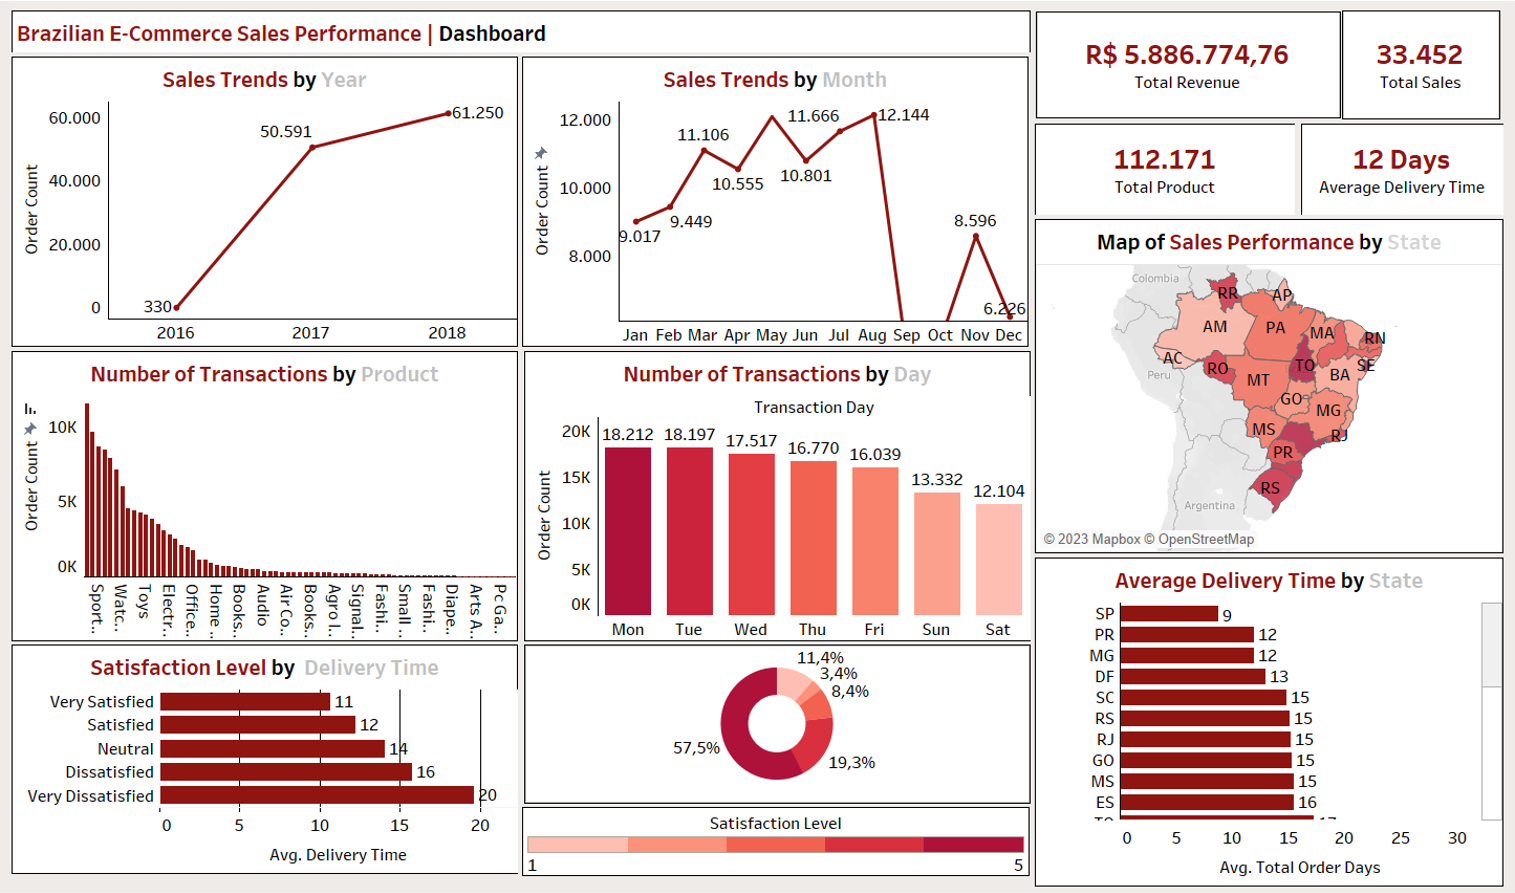

The dashboard page shown, as its layout file describes it:
{"tool":"tableau","page":{"name":"Sales Performance Dashboard","canvas":[1000,1000],"units":"permille","ordinal":0},"visuals":[{"type":"title","box":[4.8,9.4,990.3,57.6]},{"type":"worksheet","title":"Dashboard Tittle","mark":"Automatic","box":[7.5,10.6,672.5,47]},{"type":"worksheet","title":"Total Revenue","mark":"Automatic","box":[683,10.6,202.8,122.2]},{"type":"worksheet","title":"Total Sales","mark":"Automatic","box":[885.8,10.6,104.5,122.2]},{"type":"worksheet","title":"Sales Trends (Y)","mark":"Automatic","rows":["order_id"],"cols":["order_purchase_timestamp"],"box":[7.6,62.3,334.3,325.5]},{"type":"worksheet","title":"Sales Trends (M)","mark":"Automatic","rows":["order_id"],"cols":["order_purchase_timestamp"],"box":[344.6,62.3,334.3,325.5]},{"type":"worksheet","title":"Total Product","mark":"Automatic","box":[683,137.5,171.6,102.2]},{"type":"worksheet","title":"Avg Delivery Time","mark":"Automatic","box":[858.8,137.5,133.6,102.2]},{"type":"worksheet","title":"Sales Performance Map","mark":"Multipolygon","box":[683,244.4,309.3,374.9]},{"type":"worksheet","title":"Product Sales","mark":"Automatic","rows":["order_id"],"cols":["product_category_name_english"],"box":[7.6,392.5,334.3,325.5]},{"type":"worksheet","title":"Transaction Day","mark":"Automatic","rows":["order_id"],"cols":["transaction_day"],"box":[346,392.5,334.3,325.5]},{"type":"worksheet","title":"Avg Delivery Time by State","mark":"Automatic","rows":["customer_state"],"cols":["total_order_days"],"box":[683,624,309.3,369]},{"type":"worksheet","title":"Level of Satisfaction With The Delivery Time","mark":"Bar","rows":["review_score"],"cols":["total_order_days"],"box":[7.6,721.5,334.3,257.3]},{"type":"worksheet","title":"Satisfaction Level","mark":"Pie","cols":["Calculation_2168764725151133703","Calculation_2168764725151133703"],"box":[346,721.5,334.3,178.6]},{"type":"legend","title":"Satisfaction Level","param":"[federated.1buuvip01ymuc513rpub318y96ww].[none:review_score:qk]","box":[344.6,903.6,334.9,77.6]}]}

Visuals, with their boxes on the dashboard's canvas, which has no fixed pixel size, in thousandths of its width and height (x1, y1, x2, y2). These are canvas units, not pixel positions in the 1515x893 screenshot, which may show the page scaled, cropped or inside an application window:
title: detection(5, 9, 995, 67)
"Dashboard Tittle" worksheet: detection(8, 11, 680, 58)
"Total Revenue" worksheet: detection(683, 11, 886, 133)
"Total Sales" worksheet: detection(886, 11, 990, 133)
"Sales Trends (Y)" worksheet: detection(8, 62, 342, 388)
"Sales Trends (M)" worksheet: detection(345, 62, 679, 388)
"Total Product" worksheet: detection(683, 138, 855, 240)
"Avg Delivery Time" worksheet: detection(859, 138, 992, 240)
"Sales Performance Map" worksheet (Multipolygon marks): detection(683, 244, 992, 619)
"Product Sales" worksheet: detection(8, 392, 342, 718)
"Transaction Day" worksheet: detection(346, 392, 680, 718)
"Avg Delivery Time by State" worksheet: detection(683, 624, 992, 993)
"Level of Satisfaction With The Delivery Time" worksheet (Bar marks): detection(8, 722, 342, 979)
"Satisfaction Level" worksheet (Pie marks): detection(346, 722, 680, 900)
"Satisfaction Level" legend: detection(345, 904, 680, 981)
